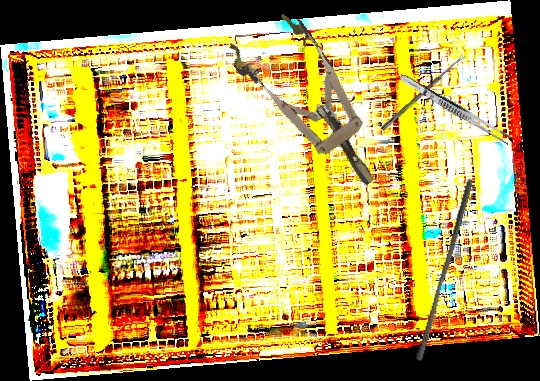Dressing Forceps: (397, 71, 513, 146)
Pusher: (414, 176, 475, 364)
Speculum: (223, 3, 402, 208)
Surgical Spoon: (380, 53, 467, 132)
